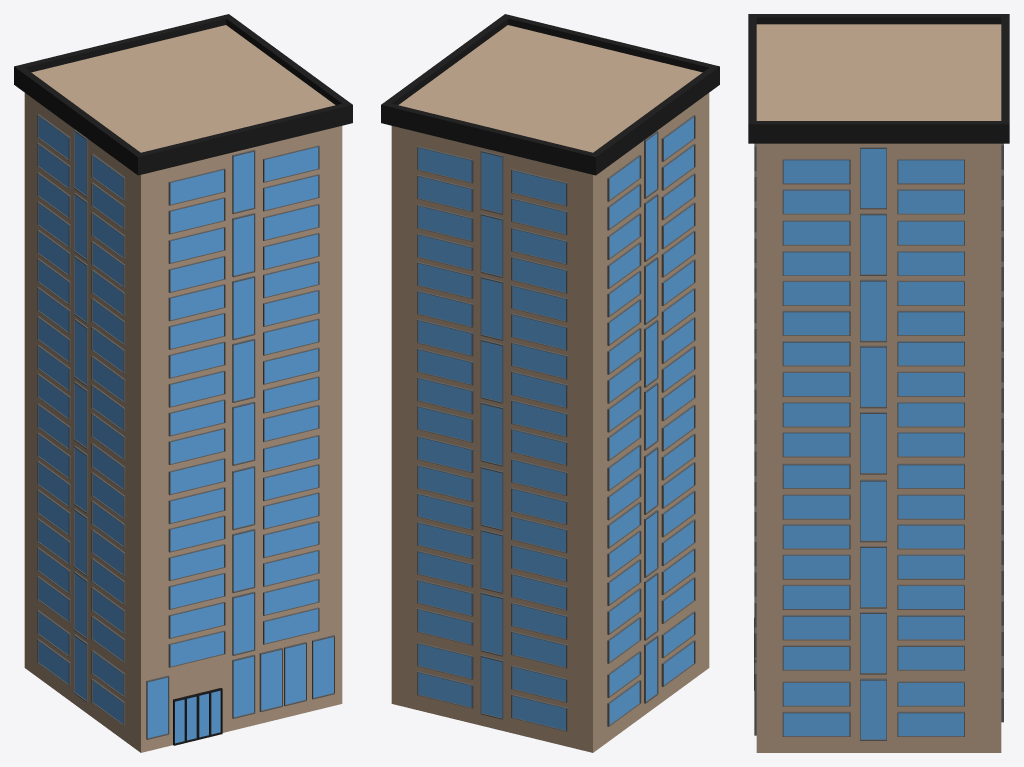
The model's file is cityasset_house_9.fbx.
The picture shows the model from 3 angles, left to right: view 1: azimuth 30°, elevation 25°; view 2: azimuth 150°, elevation 25°; view 3: azimuth 270°, elevation 25°; orthographic projection. The views are drawn at different scales.
Visible parts, largest first — view 1: Cube.005, Cube.056, Cube.014, Cube.017, Cube.054, Cube.011, Cube.052, Cube.055, Cube.057, Cube.050, Cube.051, Cube.053 (+85 smaller); view 2: Cube.005, Cube.190, Cube.191, Cube.185, Cube.186, Cube.189, Cube.184, Cube.187, Cube.188, Cube.196, Cube.174, Cube.153 (+83 smaller); view 3: Cube.005, Cube.058, Cube.064, Cube.068, Cube.086, Cube.142, Cube.060, Cube.062, Cube.066, Cube.070, Cube.072, Cube.074 (+36 smaller).
Part boxes in pixels (x1,y1,x2,y2): Cube.005: (14,14,352,752); Cube.056: (232,213,255,277); Cube.014: (259,647,282,711); Cube.017: (146,675,169,739); Cube.054: (232,338,255,402); Cube.011: (232,654,255,718); Cube.052: (232,466,255,530); Cube.055: (232,276,255,340); Cube.057: (232,149,255,214); Cube.050: (232,591,255,655); Cube.051: (232,529,255,593); Cube.053: (232,401,255,465); Cube.005: (381,14,719,752); Cube.190: (480,213,503,277); Cube.191: (480,150,503,214); Cube.185: (480,529,503,593); Cube.186: (480,466,503,530); Cube.189: (480,276,503,340); Cube.184: (480,592,503,656); Cube.187: (480,402,503,466); Cube.188: (480,339,503,403); Cube.196: (480,655,503,719); Cube.174: (417,261,473,299); Cube.153: (511,602,567,639); Cube.005: (748,14,1009,752); Cube.058: (782,645,850,670); Cube.064: (782,554,850,579); Cube.068: (782,494,850,519); Cube.086: (782,220,850,245); Cube.142: (782,681,850,706); Cube.060: (782,615,850,640); Cube.062: (782,584,850,609); Cube.066: (782,524,850,549); Cube.070: (782,463,850,488); Cube.072: (782,432,850,457); Cube.074: (782,402,850,427).
Size of the model in its own units: 321 by 858 by 321.
